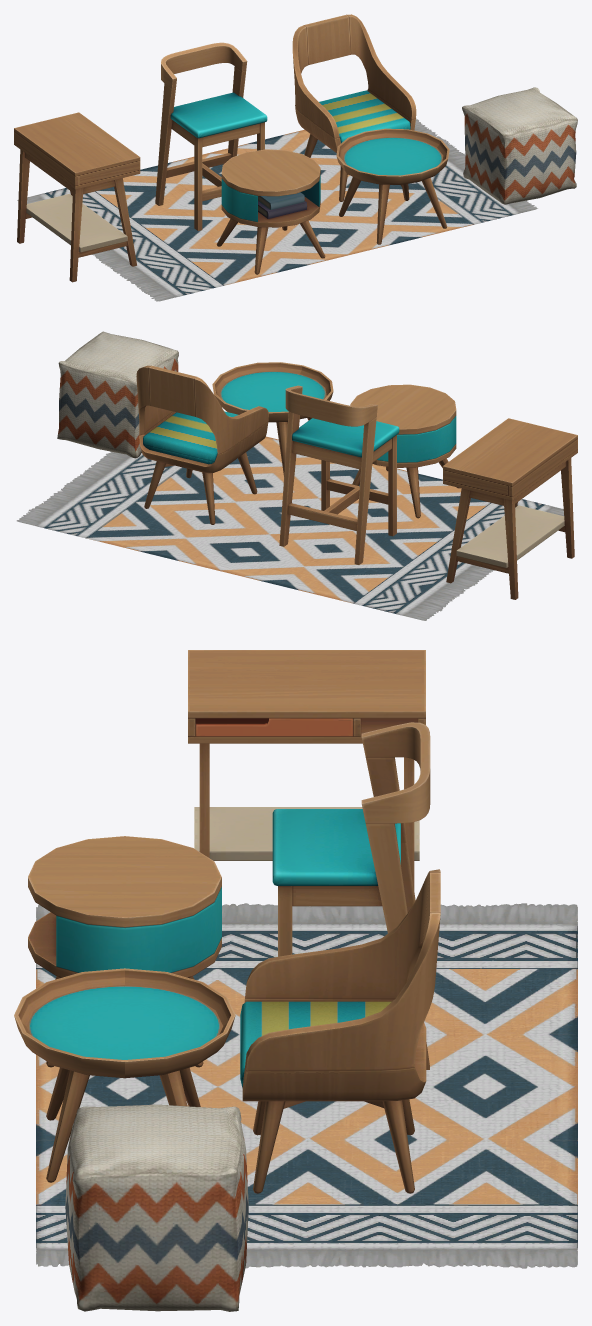
File: comer.fbx
The picture shows the model from 3 angles, top to bottom: view 1: azimuth 30°, elevation 25°; view 2: azimuth 150°, elevation 25°; view 3: azimuth 270°, elevation 25°; orthographic projection. The views are drawn at different scales.
Parts seen in each view (by area): view 1: TinyLiving_ContemporaryCarpet, TinyLiving_TinyConsole, TinyLiving_ModernPouffe, TinyLiving_LovelyDiningChair, TinyLiving_NotQuiteOrbitalSitting, TinyLiving_NotATableEnd, TinyLiving_SirCumferenceCoffeeTable; view 2: TinyLiving_ContemporaryCarpet, TinyLiving_TinyConsole, TinyLiving_NotQuiteOrbitalSitting, TinyLiving_LovelyDiningChair, TinyLiving_ModernPouffe, TinyLiving_NotATableEnd, TinyLiving_SirCumferenceCoffeeTable; view 3: TinyLiving_ContemporaryCarpet, TinyLiving_ModernPouffe, TinyLiving_LovelyDiningChair, TinyLiving_TinyConsole, TinyLiving_NotATableEnd, TinyLiving_SirCumferenceCoffeeTable, TinyLiving_NotQuiteOrbitalSitting.
Boxes of the visible parts, x1=… form: TinyLiving_ContemporaryCarpet: x1=17, y1=118, x2=537, y2=301; TinyLiving_TinyConsole: x1=14, y1=112, x2=140, y2=282; TinyLiving_ModernPouffe: x1=462, y1=87, x2=577, y2=204; TinyLiving_LovelyDiningChair: x1=292, y1=14, x2=416, y2=201; TinyLiving_NotQuiteOrbitalSitting: x1=155, y1=42, x2=267, y2=230; TinyLiving_NotATableEnd: x1=216, y1=149, x2=325, y2=274; TinyLiving_SirCumferenceCoffeeTable: x1=336, y1=128, x2=449, y2=244; TinyLiving_ContemporaryCarpet: x1=16, y1=436, x2=563, y2=620; TinyLiving_TinyConsole: x1=443, y1=418, x2=577, y2=599; TinyLiving_NotQuiteOrbitalSitting: x1=279, y1=385, x2=399, y2=564; TinyLiving_LovelyDiningChair: x1=136, y1=365, x2=268, y2=524; TinyLiving_ModernPouffe: x1=57, y1=331, x2=178, y2=458; TinyLiving_NotATableEnd: x1=350, y1=384, x2=459, y2=518; TinyLiving_SirCumferenceCoffeeTable: x1=212, y1=362, x2=333, y2=476; TinyLiving_ContemporaryCarpet: x1=36, y1=903, x2=577, y2=1268; TinyLiving_ModernPouffe: x1=65, y1=1104, x2=248, y2=1311; TinyLiving_LovelyDiningChair: x1=240, y1=869, x2=440, y2=1193; TinyLiving_TinyConsole: x1=188, y1=650, x2=425, y2=889; TinyLiving_NotATableEnd: x1=28, y1=836, x2=221, y2=1067; TinyLiving_SirCumferenceCoffeeTable: x1=14, y1=968, x2=235, y2=1182; TinyLiving_NotQuiteOrbitalSitting: x1=272, y1=722, x2=430, y2=1069.
Size of the model in its own units: 352 by 103 by 186.
Materials: 7 (7 with a texture image).
